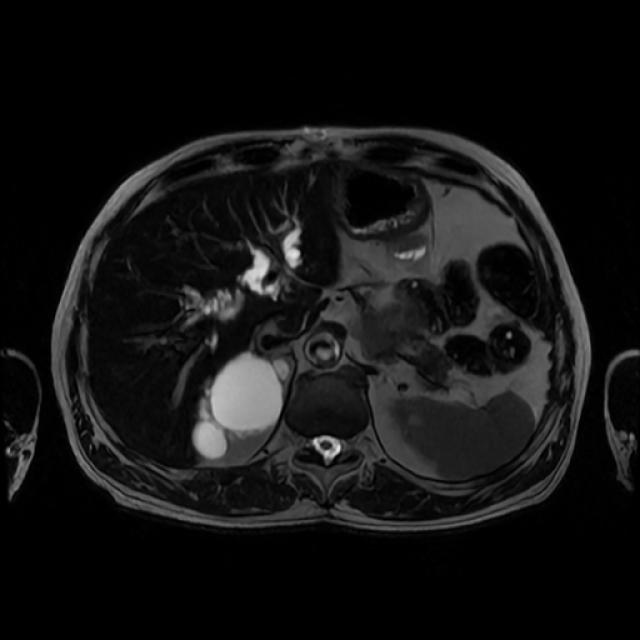sag: (191, 351, 289, 461)
